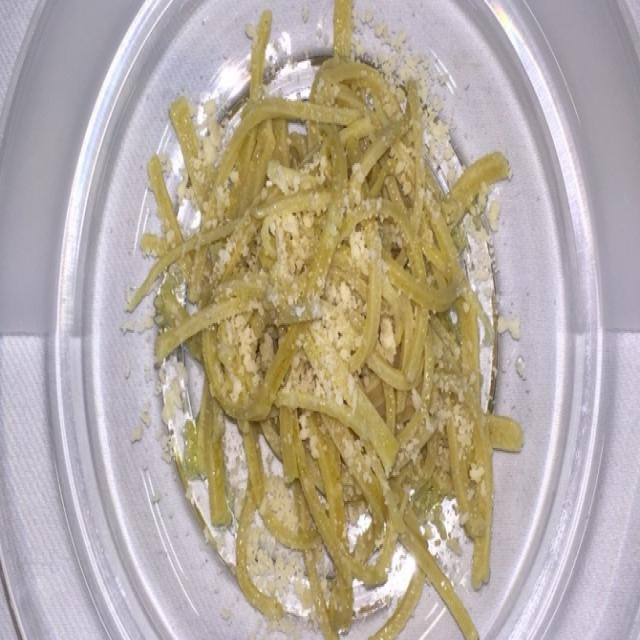Oil pasta: (144, 29, 571, 608)
